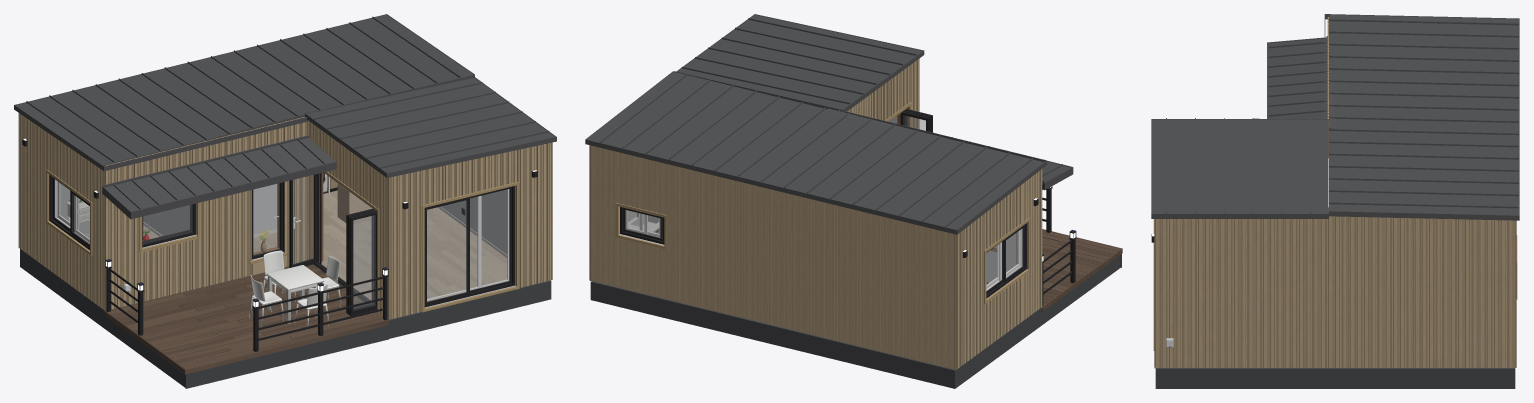
Rendered from seum-shelter-10.glb.
3 renders of one model, left to right at view 1: azimuth 30°, elevation 25°; view 2: azimuth 150°, elevation 25°; view 3: azimuth 270°, elevation 25°, orthographic. The views are drawn at different scales.
Visible parts, largest first — view 1: 지붕_Roof_MetalGray, Ext_WoodLouver, Ext_LouverGroove, Glass_Bronze, Deck_DarkWalnut, Frame_Black, Ext_BaseMetal, Int_Laminate, Roof_MetalGray, Int_WallWhite, 지붕_Cope_DarkGray, Ext_TrimBeige (+6 smaller); view 2: Ext_WoodLouver, 지붕_Roof_MetalGray, Ext_LouverGroove, Ext_BaseMetal, 지붕_Cope_DarkGray, Deck_DarkWalnut, Frame_Black, Glass_Bronze, Ext_TrimBeige, PVC_White, Int_WallWhite; view 3: 지붕_Roof_MetalGray, Ext_WoodLouver, Ext_LouverGroove, Ext_BaseMetal, Roof_MetalGray, 지붕_Cope_DarkGray, Cope_DarkGray, Ext_TrimBeige.
Part boxes in pixels (x1,y1,x2,y2): 지붕_Roof_MetalGray: (15, 14, 554, 172); Ext_WoodLouver: (19, 113, 552, 319); Ext_LouverGroove: (18, 77, 552, 319); Glass_Bronze: (54, 175, 509, 309); Deck_DarkWalnut: (104, 264, 388, 374); Frame_Black: (22, 139, 537, 351); Ext_BaseMetal: (20, 249, 551, 388); Int_Laminate: (88, 190, 507, 300); Roof_MetalGray: (105, 138, 335, 211); Int_WallWhite: (60, 184, 515, 307); 지붕_Cope_DarkGray: (14, 14, 556, 177); Ext_TrimBeige: (46, 169, 519, 313); Ext_WoodLouver: (589, 58, 1042, 369); 지붕_Roof_MetalGray: (587, 14, 1043, 229); Ext_LouverGroove: (589, 60, 1040, 369); Ext_BaseMetal: (590, 254, 1121, 388); 지붕_Cope_DarkGray: (585, 14, 1046, 234); Deck_DarkWalnut: (1041, 229, 1122, 311); Frame_Black: (620, 109, 1076, 305); Glass_Bronze: (626, 115, 1023, 290); Ext_TrimBeige: (615, 102, 1030, 304); PVC_White: (625, 210, 1022, 290); Int_WallWhite: (619, 116, 1016, 284); 지붕_Roof_MetalGray: (1152, 14, 1518, 215); Ext_WoodLouver: (1156, 17, 1515, 367); Ext_LouverGroove: (1154, 17, 1516, 368); Ext_BaseMetal: (1155, 367, 1515, 388); Roof_MetalGray: (1268, 38, 1326, 118); 지붕_Cope_DarkGray: (1151, 14, 1519, 220); Cope_DarkGray: (1267, 36, 1327, 118); Ext_TrimBeige: (1153, 219, 1517, 350).
Size of the model in its own units: 8.08 by 3.5 by 6.38.
111 materials, 16 textured.
